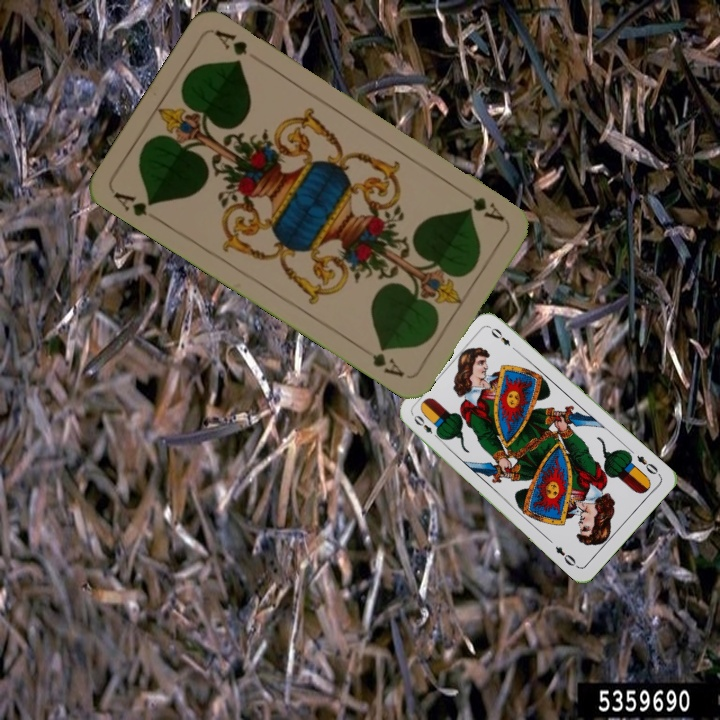EO: (409, 411, 443, 443), (632, 451, 663, 478)
GA: (109, 187, 163, 225), (465, 193, 507, 224)
